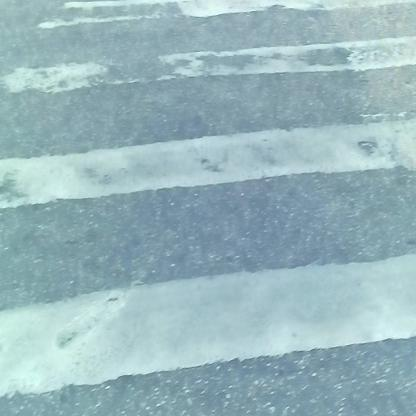crosswalk: (11, 5, 415, 384)
